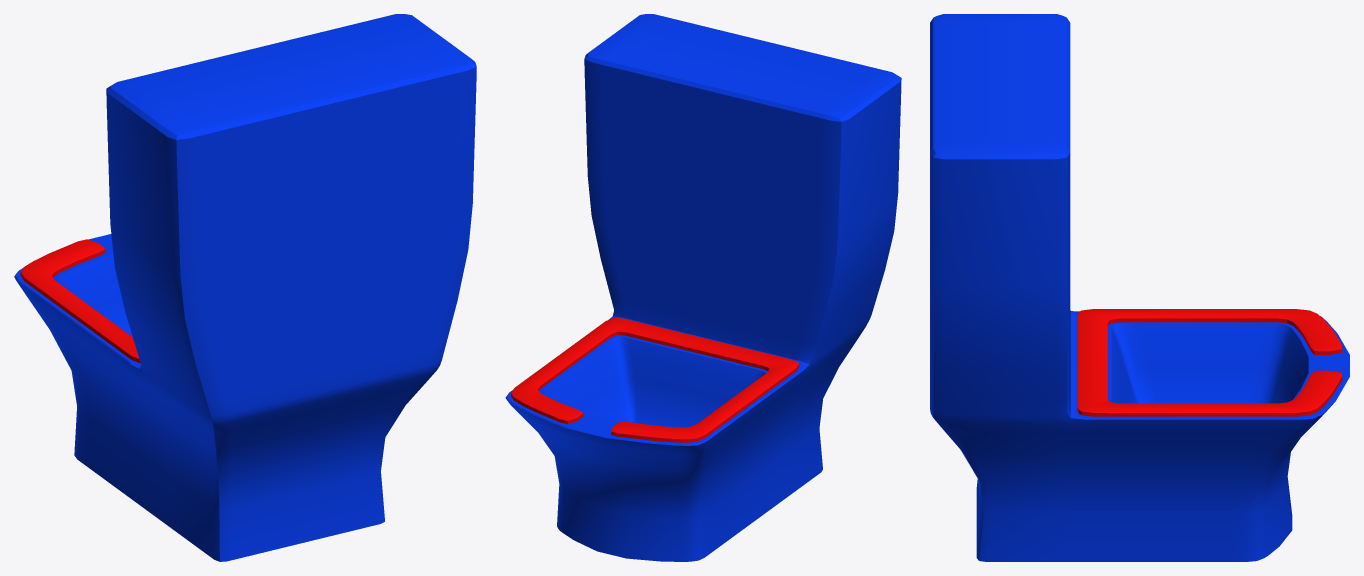
3 renders of one model, left to right at view 1: azimuth 30°, elevation 25°; view 2: azimuth 150°, elevation 25°; view 3: azimuth 270°, elevation 25°, orthographic. The views are drawn at different scales.
Visible parts, largest first — view 1: WC; view 2: WC; view 3: WC.
Boxes of the visible parts, left/top/right/bottom form: WC: left=14, top=14, right=476, bottom=561; WC: left=505, top=14, right=901, bottom=561; WC: left=930, top=14, right=1349, bottom=561.
Bounding box in the file's own units: 1.14 × 1.63 × 1.41.
